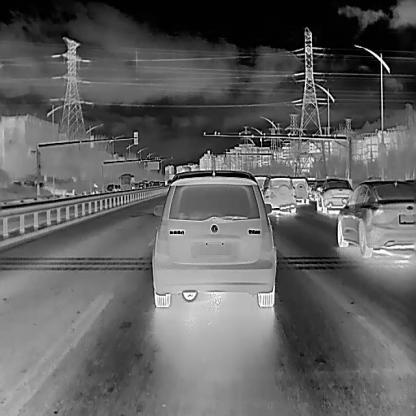car: (151, 168, 276, 306), (336, 177, 416, 258), (316, 177, 355, 213), (260, 174, 295, 214), (289, 175, 309, 204), (117, 172, 134, 190), (104, 183, 115, 193), (23, 178, 34, 188), (34, 181, 45, 190), (136, 181, 145, 190), (152, 180, 160, 187), (113, 184, 120, 191)
